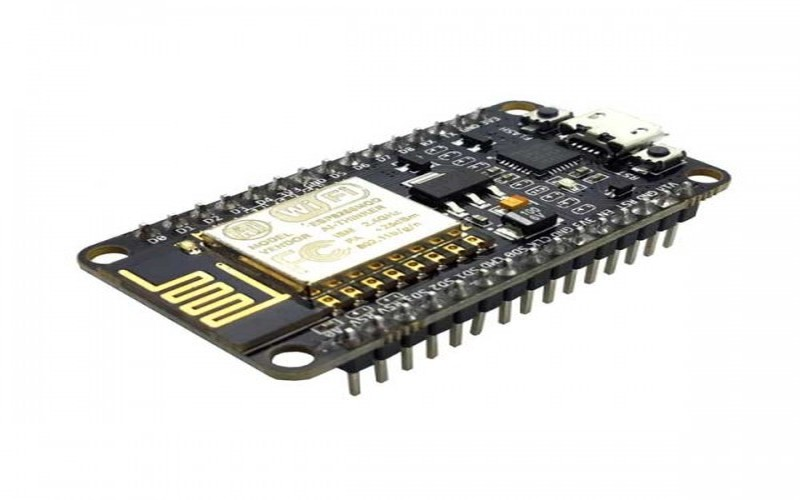IoT Sensor: (67, 83, 739, 400)
